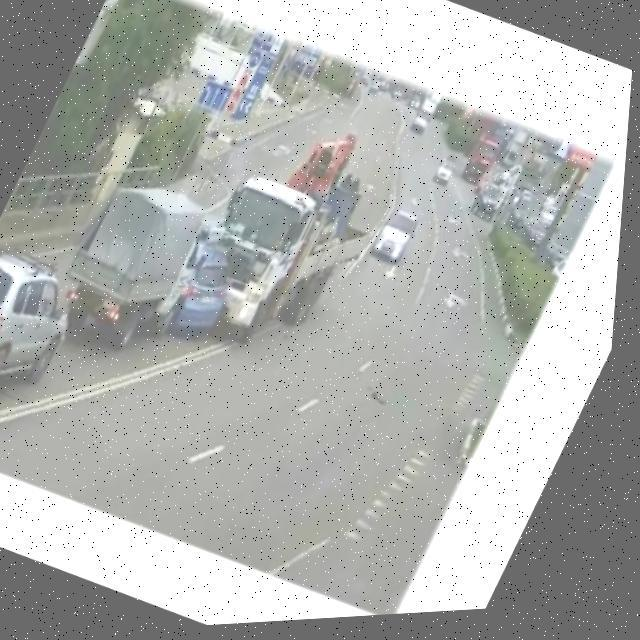Car Accident Detector - v4 Generation1 Exported: (44, 56, 410, 437)
